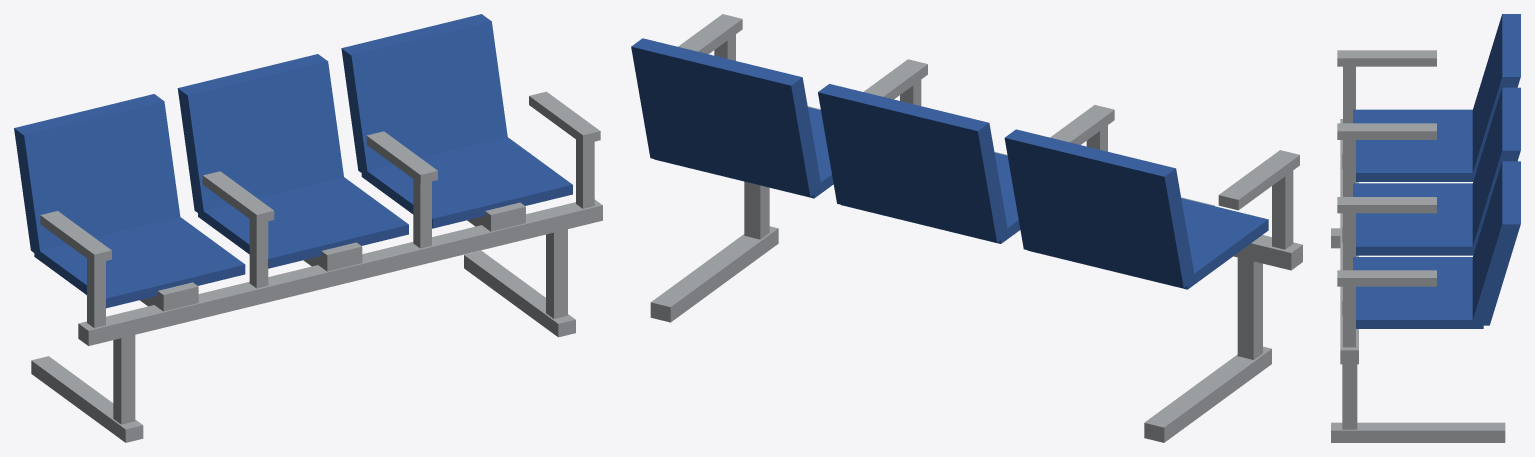
The model's file is FN_Seating_Beam.obj.
The picture shows the model from 3 angles, left to right: view 1: azimuth 30°, elevation 25°; view 2: azimuth 150°, elevation 25°; view 3: azimuth 270°, elevation 25°; orthographic projection. The views are drawn at different scales.
Parts seen in each view (by area): view 1: FN_Seating_Beam; view 2: FN_Seating_Beam; view 3: FN_Seating_Beam.
Part boxes in pixels (x1,y1,x2,y2): FN_Seating_Beam: [14, 14, 602, 442]; FN_Seating_Beam: [631, 14, 1302, 442]; FN_Seating_Beam: [1331, 14, 1520, 442].
Bounding box in the file's own units: 1.76 × 0.79 × 0.61.
Materials: 1 (1 with a texture image).
